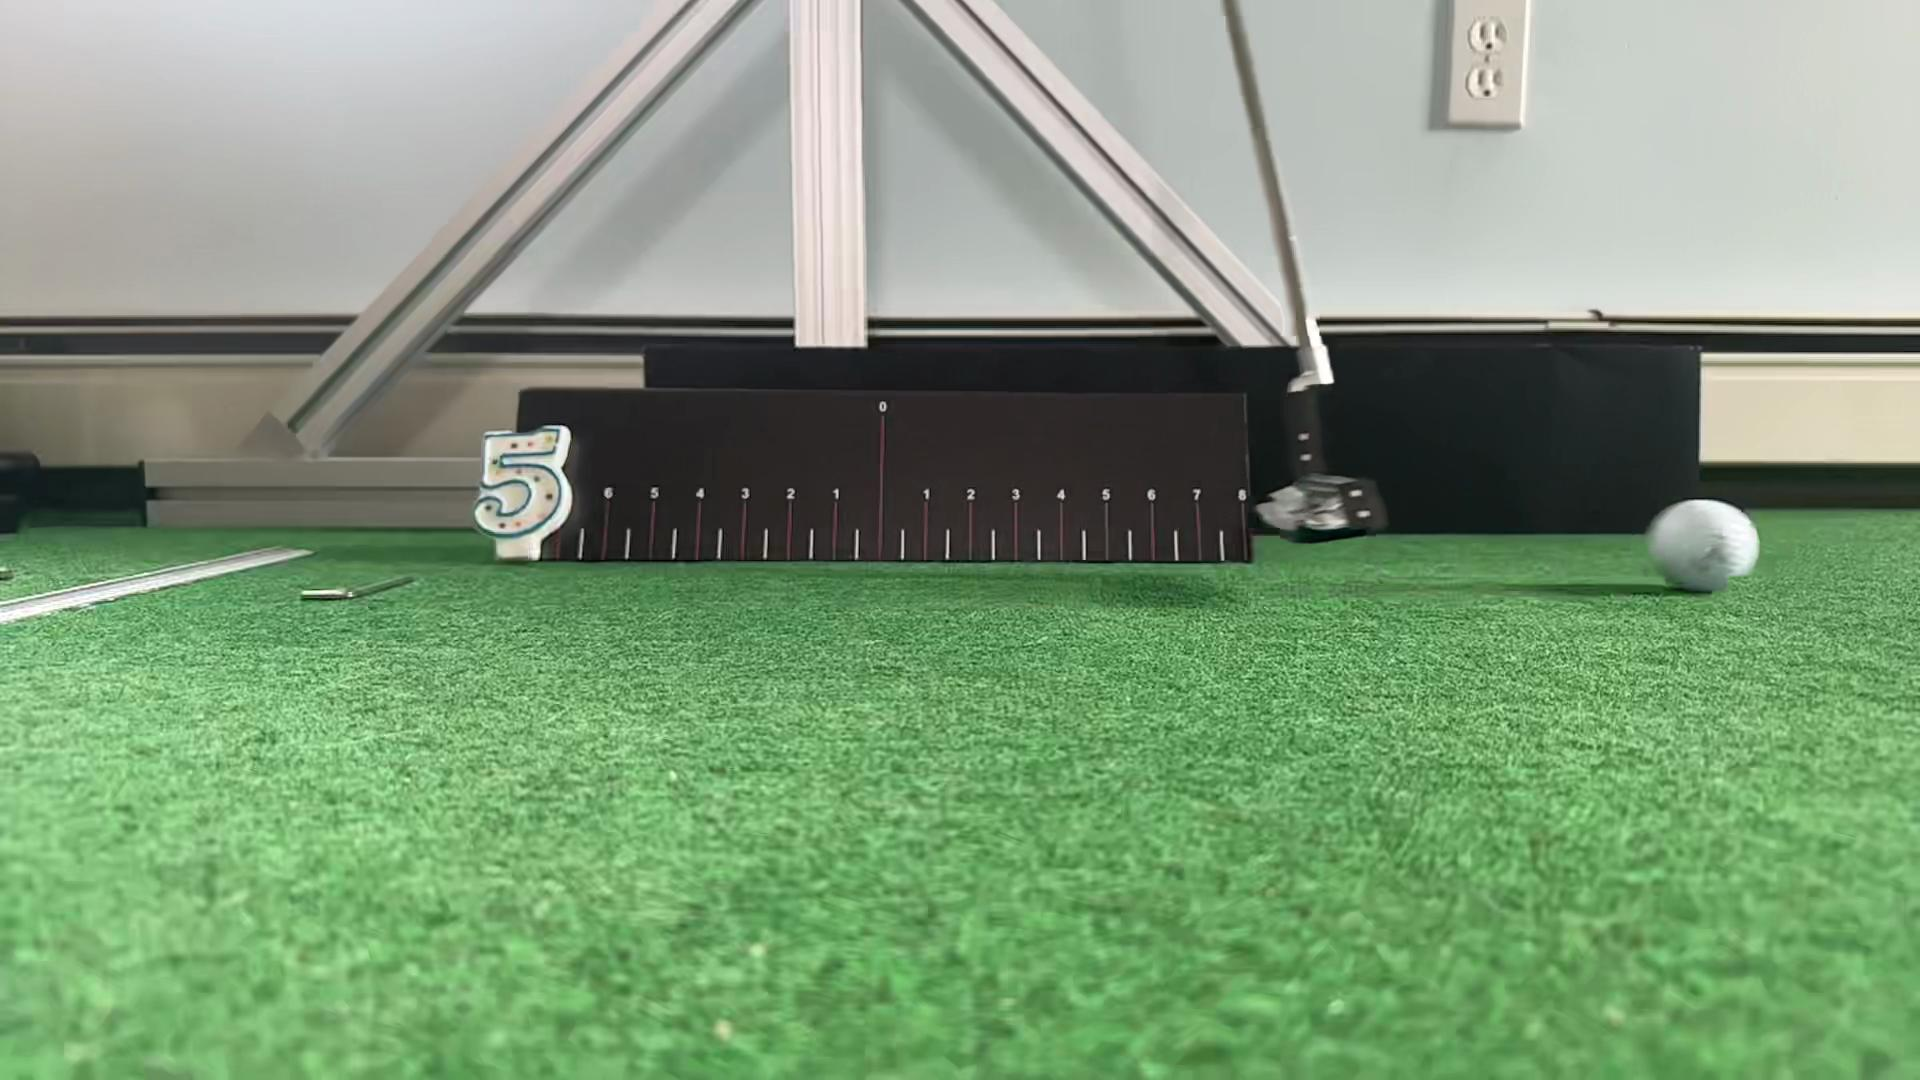golfball: (1649, 500, 1759, 593)
